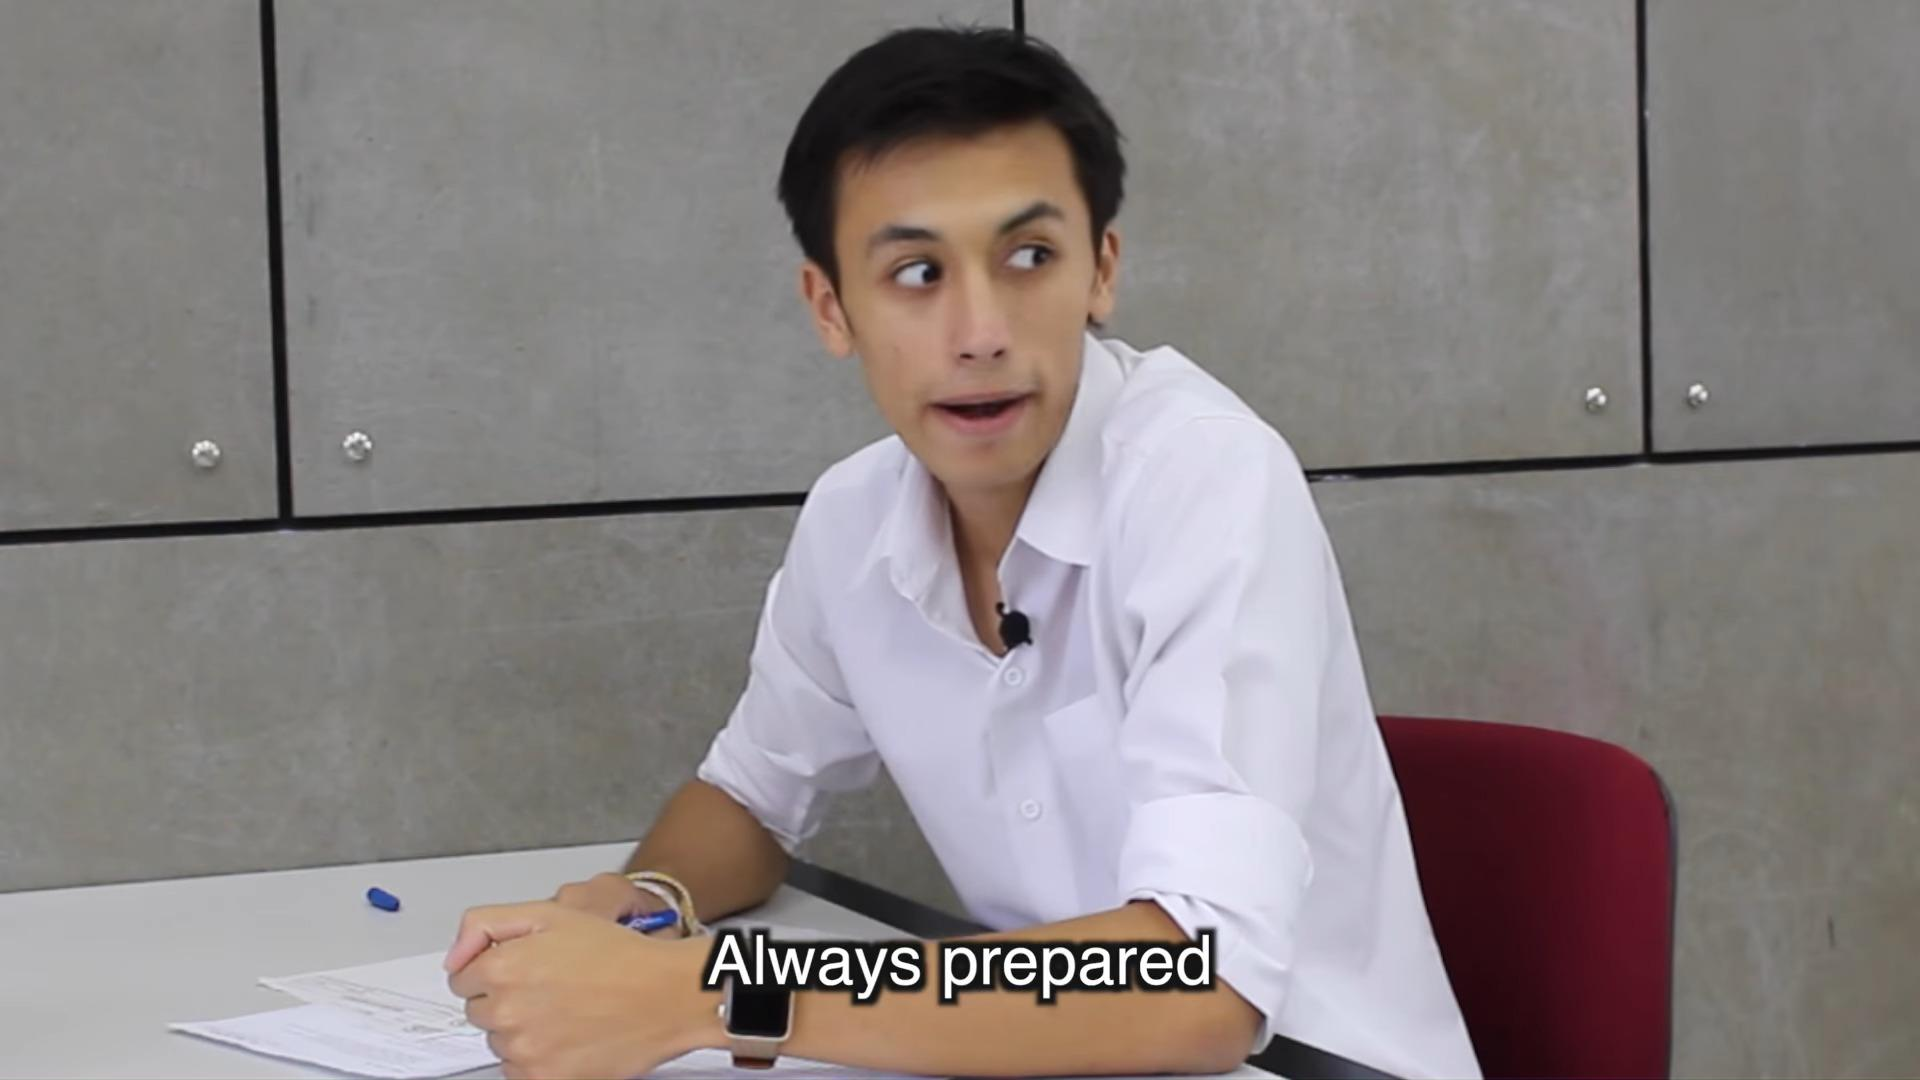cheating: (421, 0, 1468, 919)
